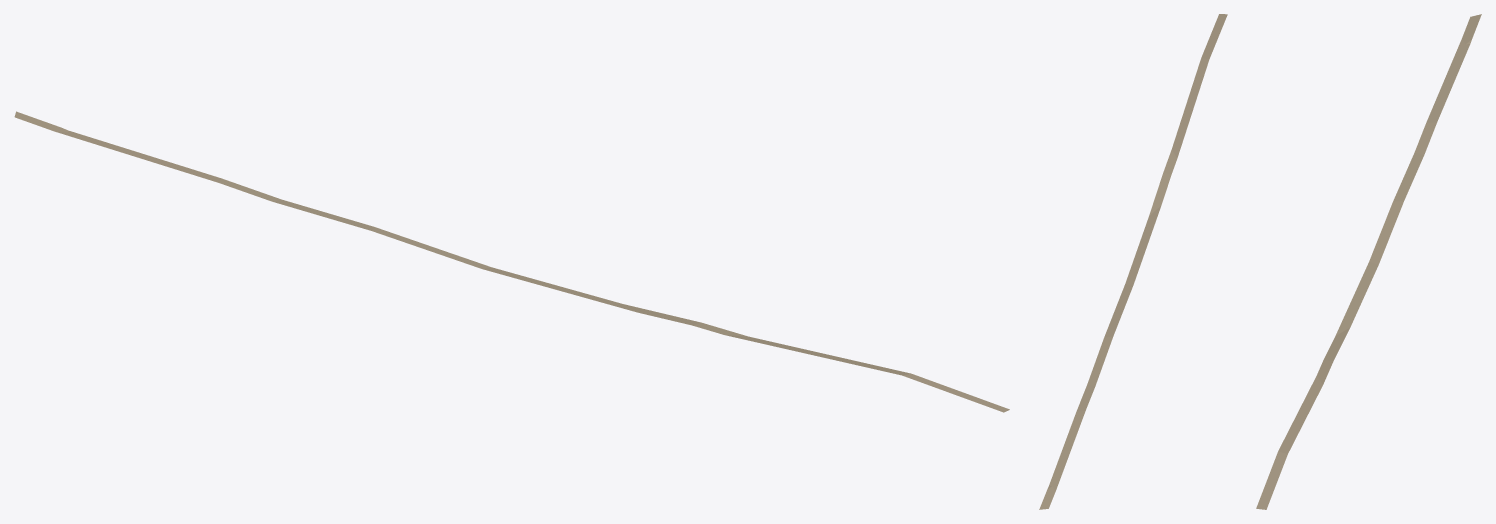
File: farm_-13_-20_track.glb
3 renders of one model, left to right at view 1: azimuth 30°, elevation 25°; view 2: azimuth 150°, elevation 25°; view 3: azimuth 330°, elevation 25°, orthographic. The views are drawn at different scales.
Visible parts, largest first — view 1: geometry_0; view 2: geometry_0; view 3: geometry_0.
Part boxes in pixels (x1,y1,x2,y2): geometry_0: (14,111,1009,412); geometry_0: (1039,14,1227,509); geometry_0: (1256,14,1481,509).
Bounding box in the file's own units: 144 × 17.72 × 380.
